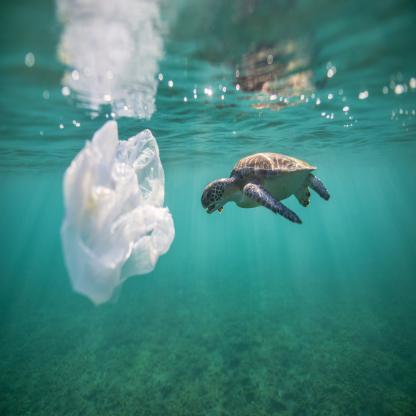Rác: (55, 113, 177, 292)
